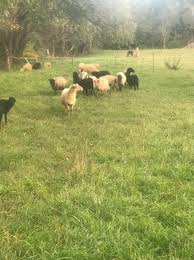sheep: (61, 84, 84, 114), (1, 97, 17, 128), (113, 68, 133, 89), (96, 75, 113, 97), (71, 70, 91, 85), (48, 76, 65, 93), (128, 75, 142, 94), (80, 79, 95, 95), (126, 47, 139, 60), (21, 62, 32, 73), (29, 62, 41, 71), (42, 60, 51, 70)
